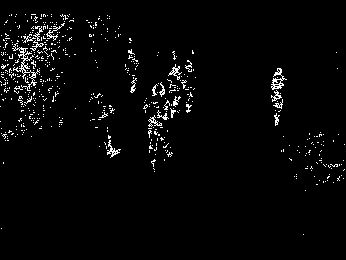person: (144, 81, 175, 171), (267, 65, 290, 132), (184, 59, 204, 120), (167, 62, 184, 118), (121, 47, 141, 90)
